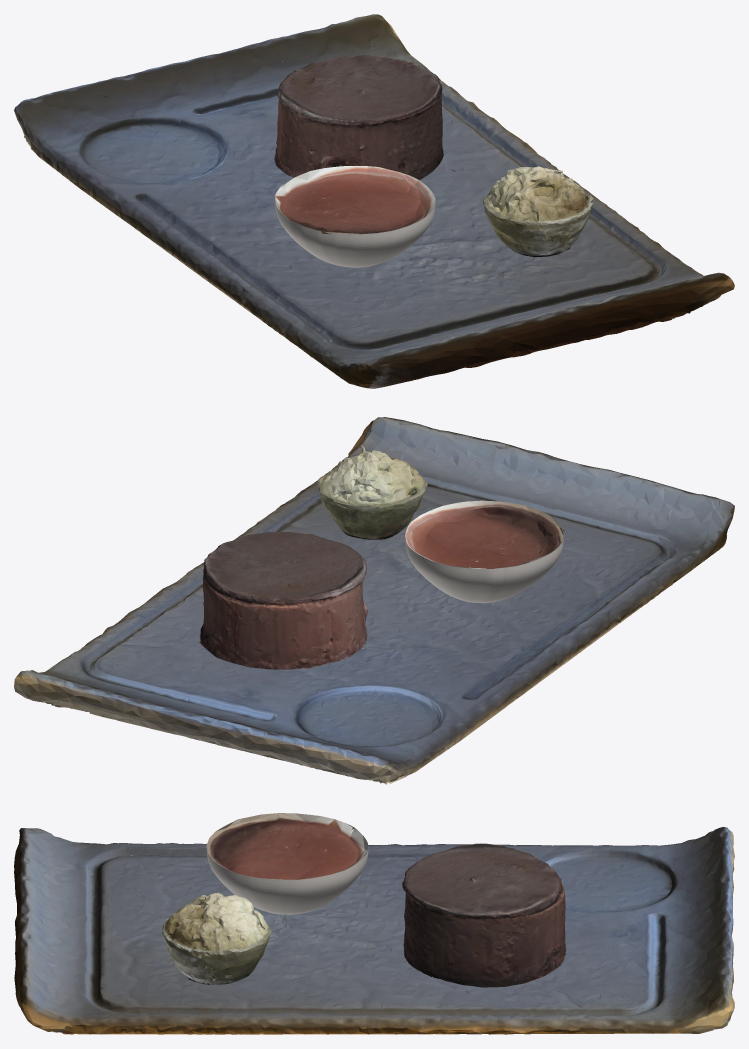
3 renders of one model, top to bottom at view 1: azimuth 30°, elevation 25°; view 2: azimuth 150°, elevation 25°; view 3: azimuth 270°, elevation 25°, orthographic.
Visible parts, largest first — view 1: Piatra Vulcanica, Mouse, Sosiera, cg, Sosiera.002; view 2: Piatra Vulcanica, Mouse, Sosiera, cg, Sosiera.002; view 3: Piatra Vulcanica, Mouse, Sosiera, cg, Sosiera.002.
Part boxes in pixels (box(x1,y1,x2,y2)): Piatra Vulcanica: box(14, 14, 734, 388); Mouse: box(274, 55, 443, 179); Sosiera: box(274, 166, 435, 234); cg: box(483, 166, 593, 256); Sosiera.002: box(275, 179, 435, 267); Piatra Vulcanica: box(14, 417, 734, 784); Mouse: box(199, 531, 367, 669); Sosiera: box(405, 500, 564, 570); cg: box(316, 445, 427, 539); Sosiera.002: box(405, 502, 564, 603); Piatra Vulcanica: box(14, 827, 734, 1034); Mouse: box(402, 843, 566, 987); Sosiera: box(206, 813, 367, 879); cg: box(162, 892, 271, 984); Sosiera.002: box(206, 813, 368, 914).
Size of the model in its own units: 18.26 by 4.2 by 30.02.
Materials: 5 (5 with a texture image).
